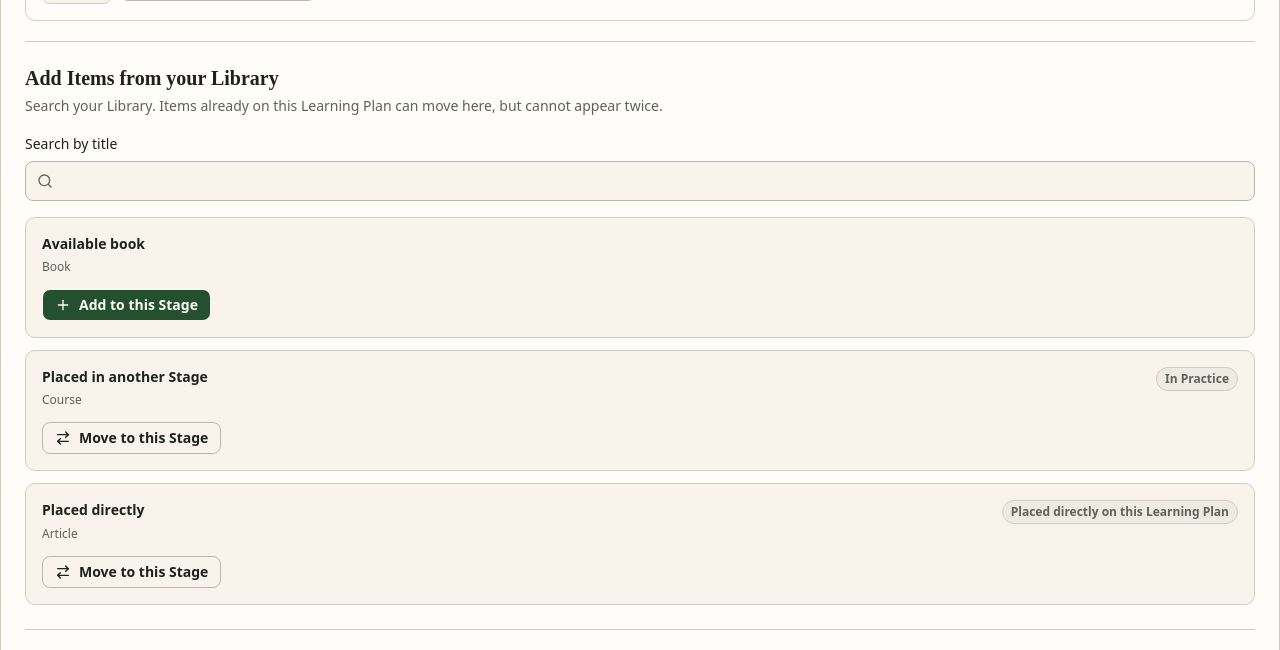
Scenario: Stage detail panel › distinguishes available and already-placed Library Items during intake
(page scrolled)
Check: the text "In Practice" is shown, box top-left (1156, 367), bottom-right (1238, 391)
Check: the text "Placed directly on this Learning Plan" is shown, box top-left (1002, 500), bottom-right (1238, 524)
Click the button "Add to this Stage" at (126, 305), box top-left (42, 289), bottom-right (211, 321)
(page scrolled)
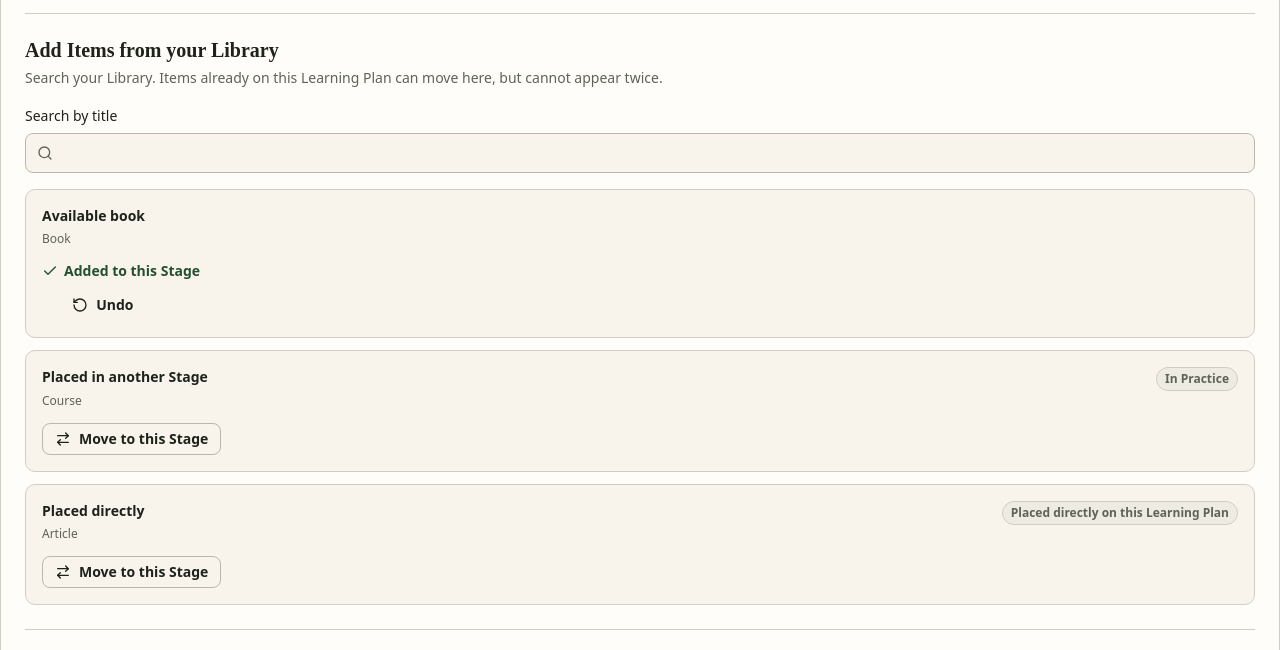
Check: the text "Added to this Stage" is shown, box top-left (42, 261), bottom-right (200, 281)
Click the button "Undo" at (103, 305), box top-left (42, 289), bottom-right (164, 321)
(page scrolled)
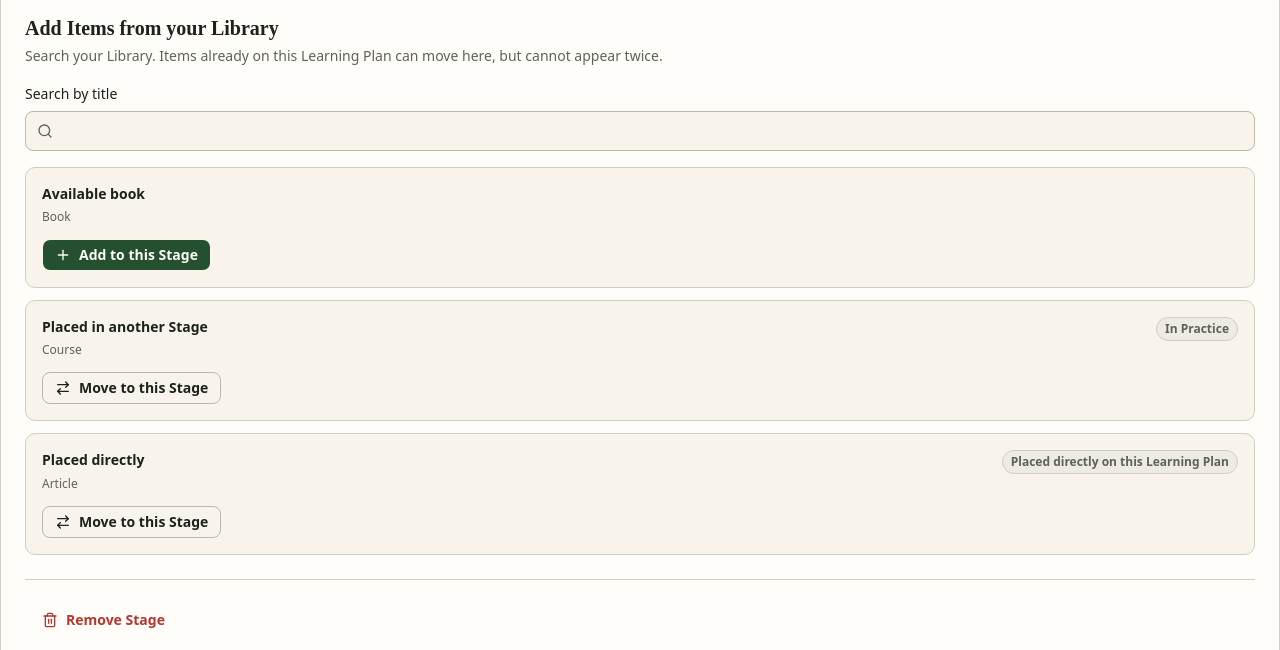
Check: the text "Added to this Stage" is gone
